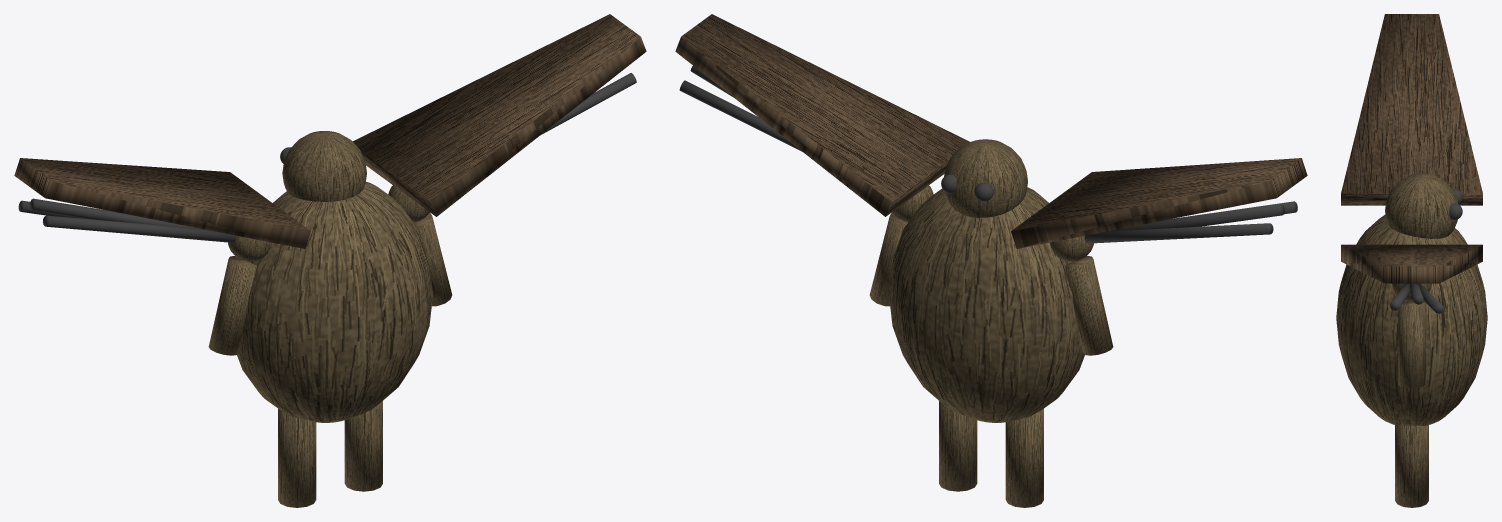
The model's file is winged-proof.glb.
The picture shows the model from 3 angles, left to right: view 1: azimuth 30°, elevation 25°; view 2: azimuth 150°, elevation 25°; view 3: azimuth 270°, elevation 25°; orthographic projection. The views are drawn at different scales.
Parts seen in each view (by area): view 1: Torso, Wing.001, Wing, Head, Leg, Leg.001, Arm, WingFinger, Arm.001, WingFinger.001, WingFinger.003, ShoulderJoint; view 2: Torso, Wing.001, Wing, Head, Leg, Leg.001, Arm, WingFinger.002, WingFinger.001, Arm.001, WingFinger.005, ShoulderJoint; view 3: Wing, Torso, Wing.001, Head, Leg.001, Arm.001, WingFinger.005, WingFinger.003, WingFinger.004, ShoulderJoint.001, Eye.001.
Boxes of the visible parts, <box> form: Torso: <box>237,182,432,422</box>; Wing.001: <box>353,14,646,216</box>; Wing: <box>14,158,310,248</box>; Head: <box>282,131,366,201</box>; Leg: <box>278,409,316,507</box>; Leg.001: <box>344,401,382,491</box>; Arm: <box>208,256,256,355</box>; WingFinger: <box>43,215,236,242</box>; Arm.001: <box>414,212,452,306</box>; WingFinger.001: <box>29,198,200,228</box>; WingFinger.003: <box>540,73,636,135</box>; ShoulderJoint: <box>228,236,272,261</box>; Torso: <box>889,187,1084,422</box>; Wing.001: <box>675,14,969,216</box>; Wing: <box>1011,158,1307,248</box>; Head: <box>944,139,1027,217</box>; Leg: <box>1005,409,1043,507</box>; Leg.001: <box>939,401,977,491</box>; Arm: <box>1065,256,1113,355</box>; WingFinger.002: <box>1084,223,1273,243</box>; WingFinger.001: <box>1107,204,1284,231</box>; Arm.001: <box>869,212,907,306</box>; WingFinger.005: <box>679,80,802,151</box>; ShoulderJoint: <box>1049,236,1093,261</box>; Wing: <box>1341,14,1482,205</box>; Torso: <box>1336,214,1487,425</box>; Wing.001: <box>1341,244,1482,283</box>; Head: <box>1385,173,1458,238</box>; Leg.001: <box>1395,425,1428,507</box>; Arm.001: <box>1398,301,1425,387</box>; WingFinger.005: <box>1418,283,1443,313</box>; WingFinger.003: <box>1390,283,1410,310</box>; WingFinger.004: <box>1409,283,1423,304</box>; ShoulderJoint.001: <box>1392,283,1431,301</box>; Eye.001: <box>1449,203,1462,219</box>.
Bounding box in the file's own units: 1.8 × 1.13 × 0.448.
Materials: 3 (2 with a texture image).
